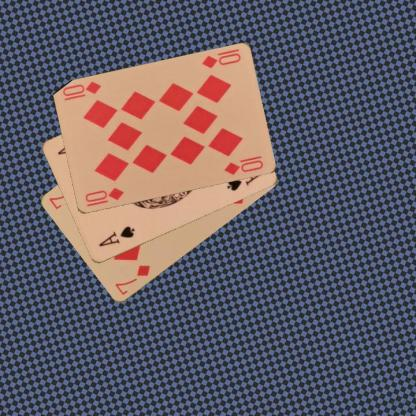10d: (199, 46, 242, 70), (82, 185, 125, 208)
7d: (112, 262, 151, 297)
As: (96, 224, 136, 248)
